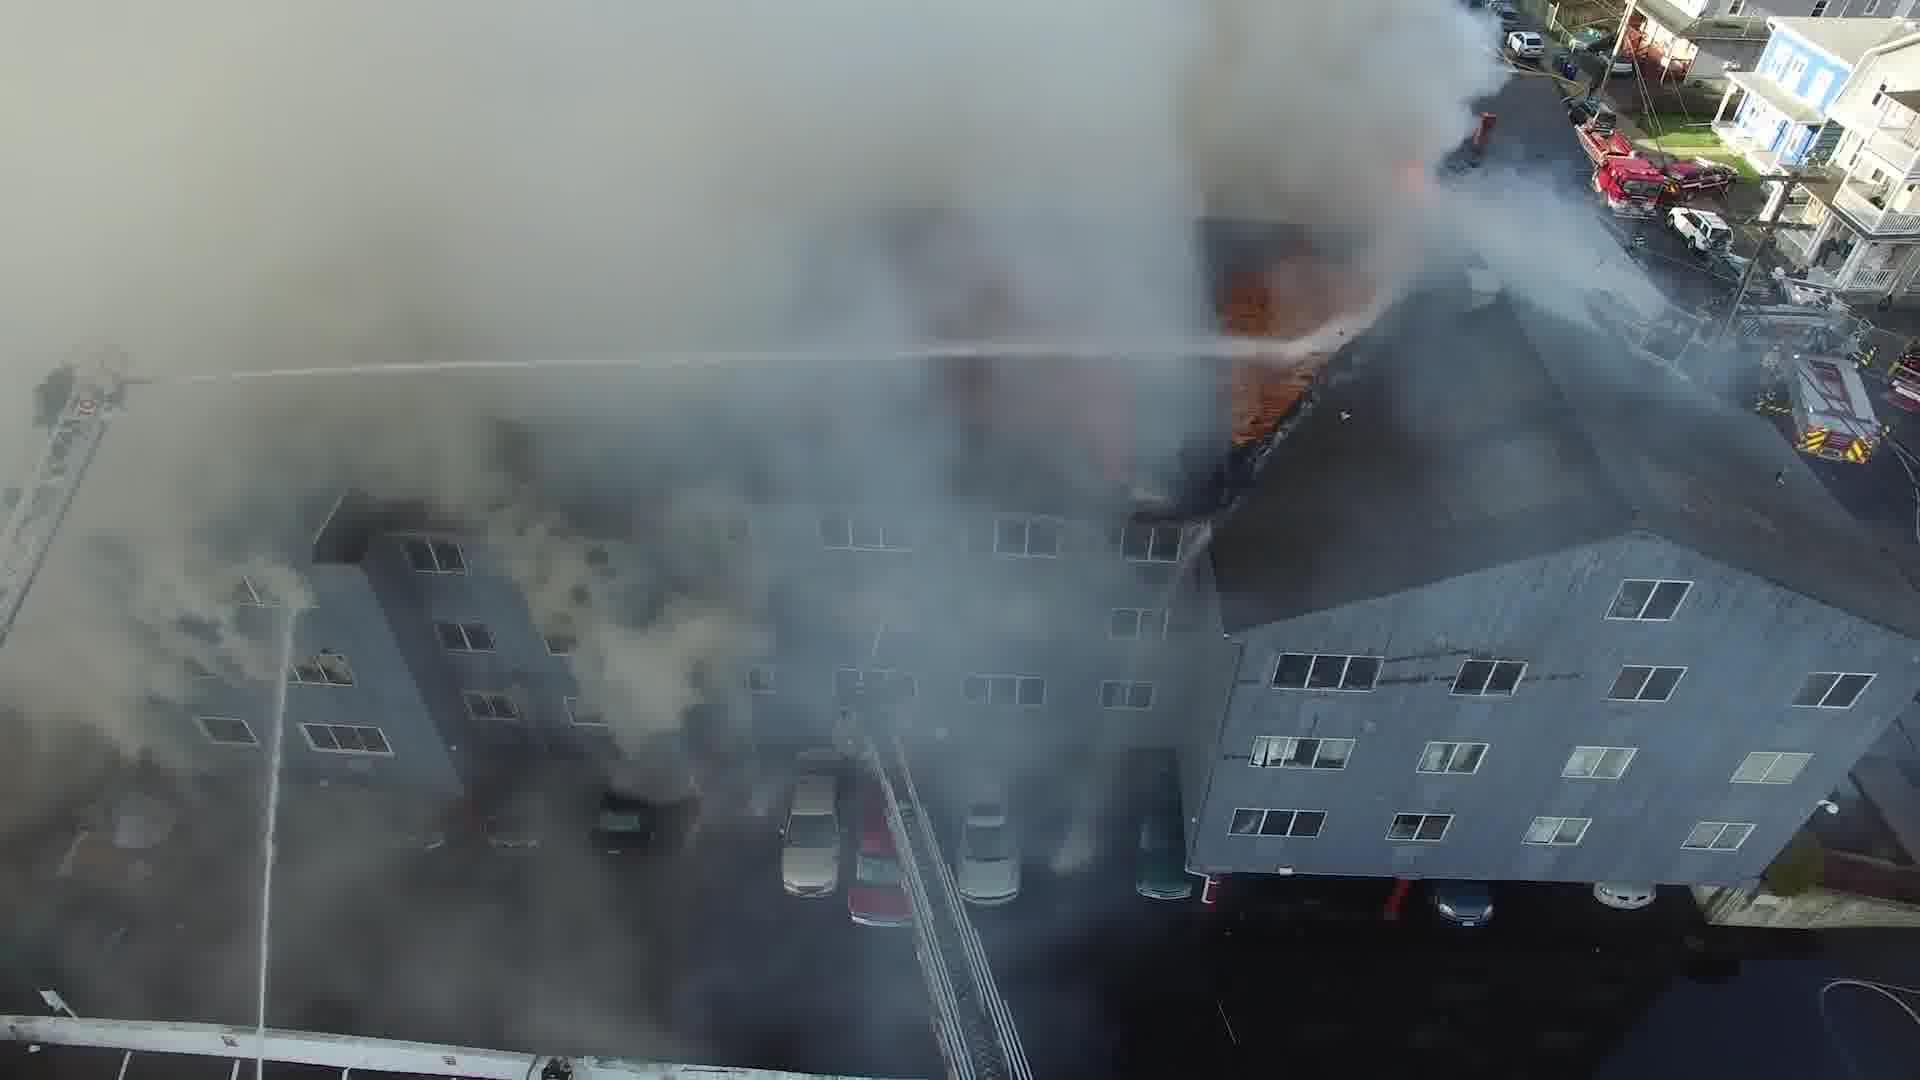smoke: (178, 0, 1597, 324), (215, 393, 1080, 715)
